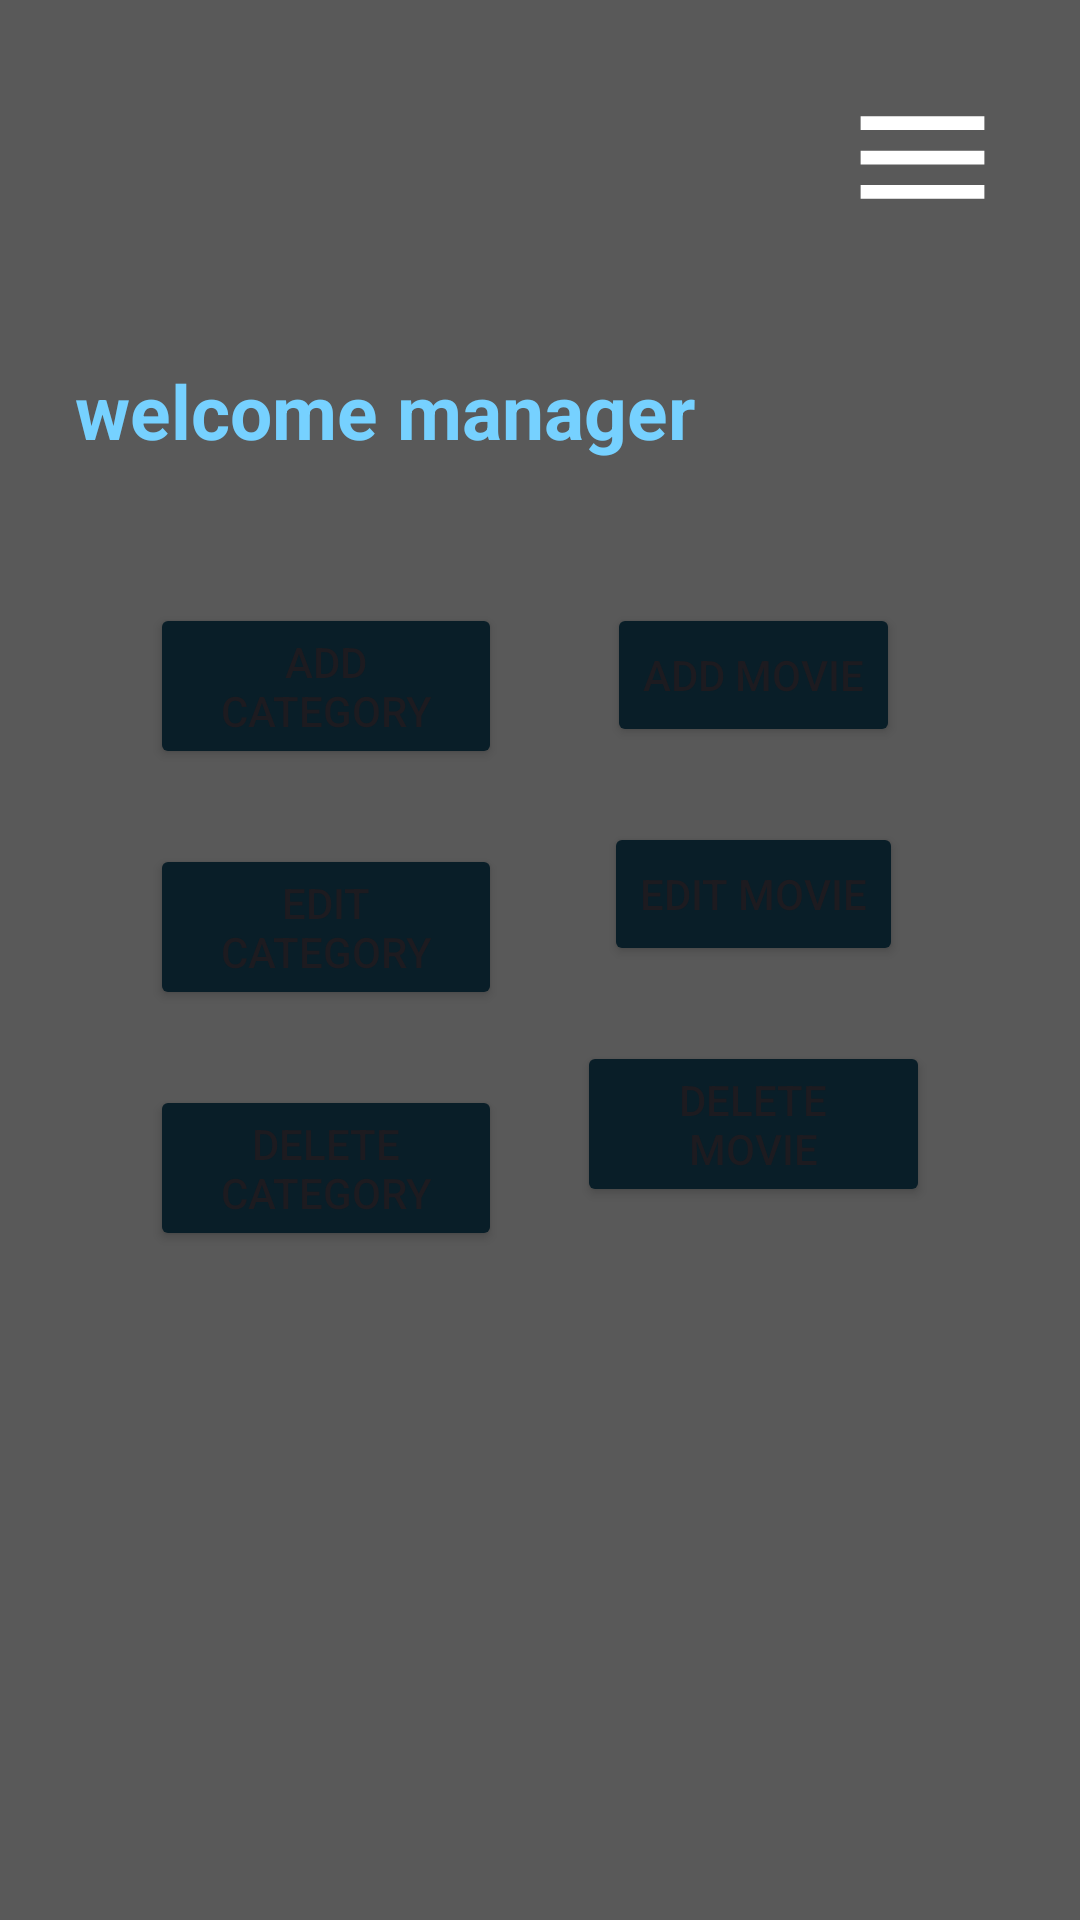

Screen size 1080px x 1920px. Icon name, then its box in pixels as (x1, y1, x2, y2):
open menu: (860, 116, 985, 199)
